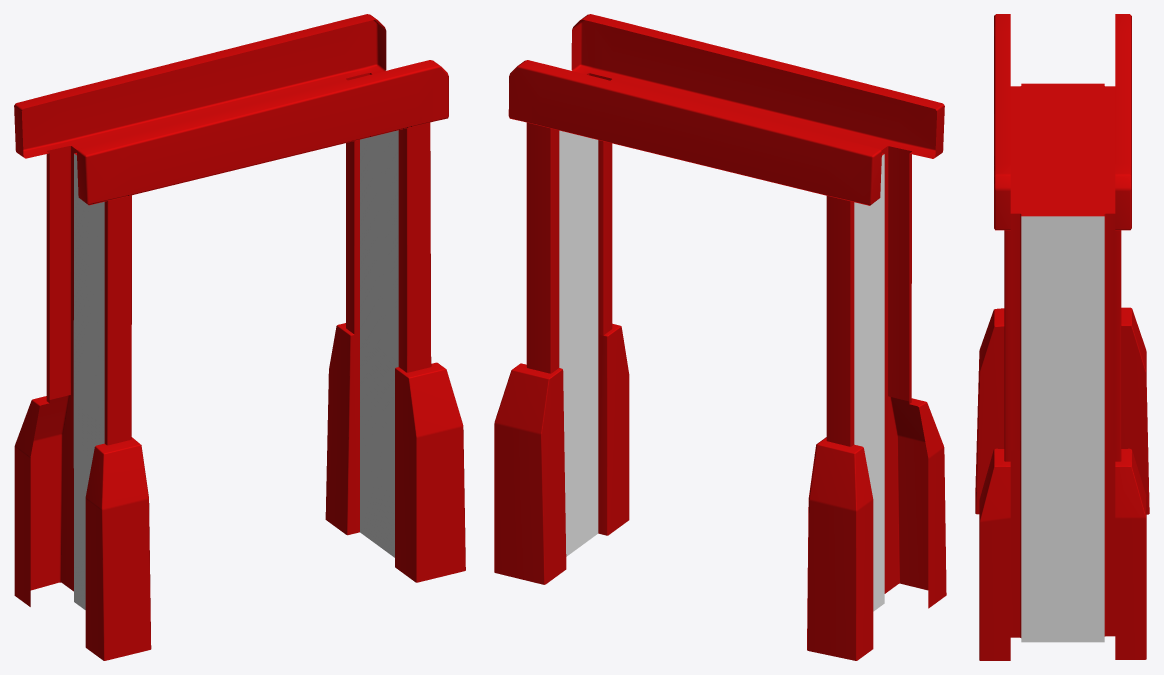
Rendered from Doorframe_V2.fbx.
3 renders of one model, left to right at view 1: azimuth 30°, elevation 25°; view 2: azimuth 150°, elevation 25°; view 3: azimuth 270°, elevation 25°, orthographic. The views are drawn at different scales.
Parts seen in each view (by area): view 1: Doorframe_V2 TEX; view 2: Doorframe_V2 TEX; view 3: Doorframe_V2 TEX.
Boxes of the visible parts, x1,y1,x2,y2 form: Doorframe_V2 TEX: (14,14,465,660); Doorframe_V2 TEX: (494,14,946,660); Doorframe_V2 TEX: (975,14,1149,660).
Size of the model in its own units: 196 by 253 by 83.43.
